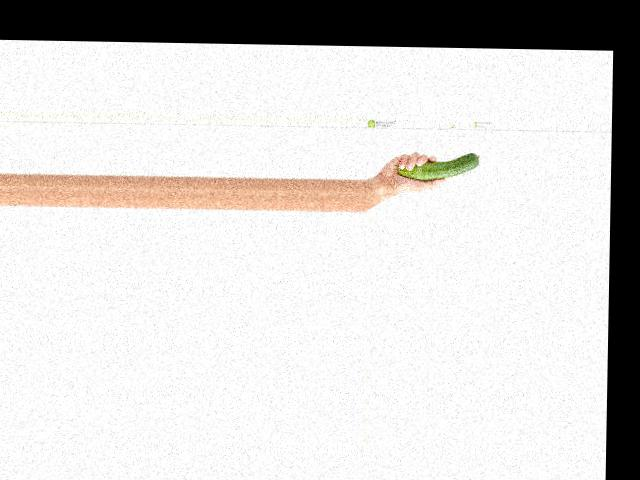cucumber: (397, 151, 479, 180)
